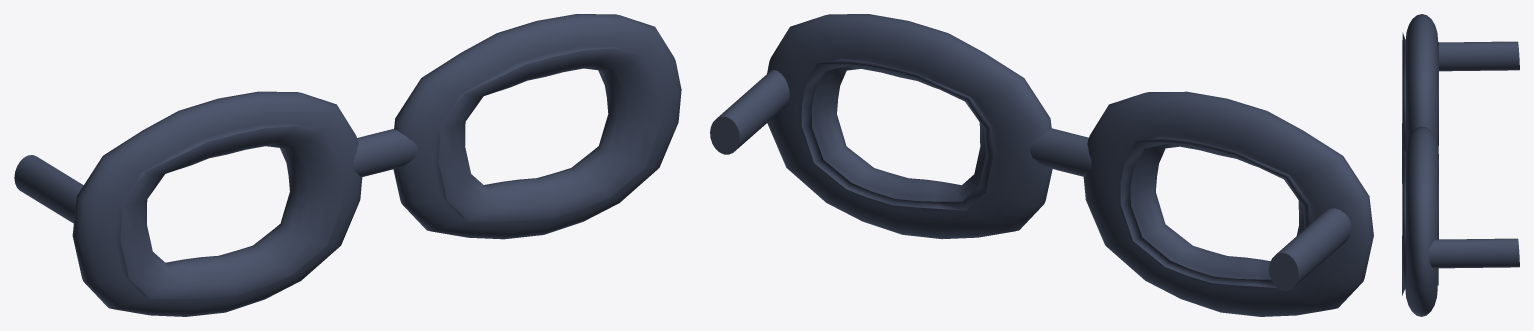
File: glasses_for_Oscar.fbx
3 renders of one model, left to right at view 1: azimuth 30°, elevation 25°; view 2: azimuth 150°, elevation 25°; view 3: azimuth 270°, elevation 25°, orthographic. The views are drawn at different scales.
Parts seen in each view (by area): view 1: pTorus47; view 2: pTorus47; view 3: pTorus47.
Boxes of the visible parts, bbox=[...] form: pTorus47: bbox=[14, 14, 681, 316]; pTorus47: bbox=[710, 14, 1373, 316]; pTorus47: bbox=[1402, 14, 1519, 316].
Size of the model in its own units: 3.1 by 1.04 by 0.7204.
